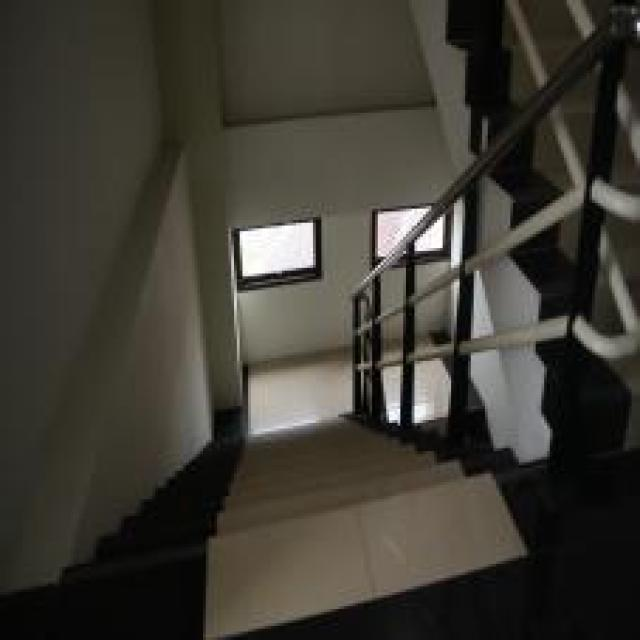downstair: (145, 438, 525, 638)
